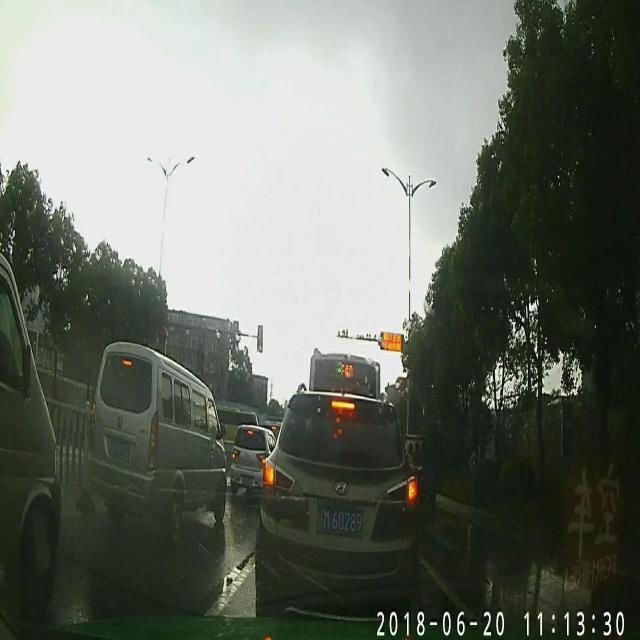car: (256, 382, 416, 617), (88, 342, 227, 542), (0, 251, 62, 593), (229, 426, 277, 490)
